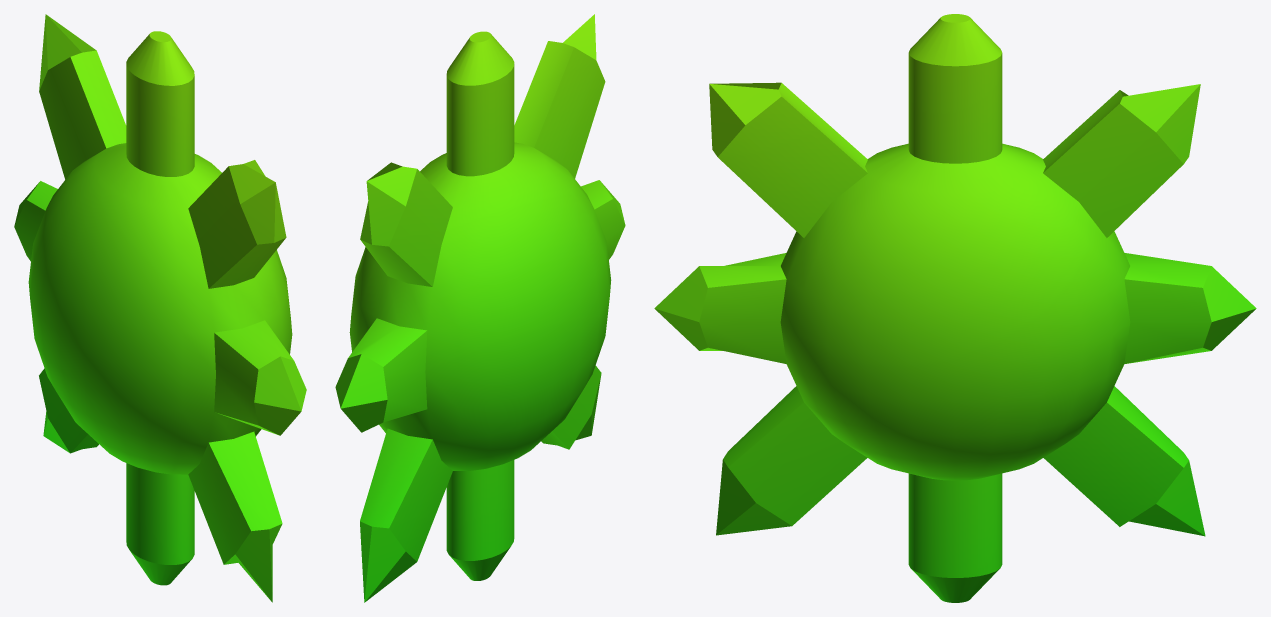
The model's file is Jamborite.fbx.
3 views of the same model, side by side, from view 1: azimuth 30°, elevation 25°; view 2: azimuth 150°, elevation 25°; view 3: azimuth 270°, elevation 25° (orthographic). The views are drawn at different scales.
Parts seen in each view (by area): view 1: JAMBORITE.001; view 2: JAMBORITE.001; view 3: JAMBORITE.001.
Part boxes in pixels (box(x1,y1,x2,y2)): JAMBORITE.001: box(14, 14, 306, 602); JAMBORITE.001: box(335, 14, 625, 602); JAMBORITE.001: box(654, 14, 1256, 602).
Size of the model in its own units: 98.6 by 252 by 237.
Materials: 1 (1 with a texture image).
